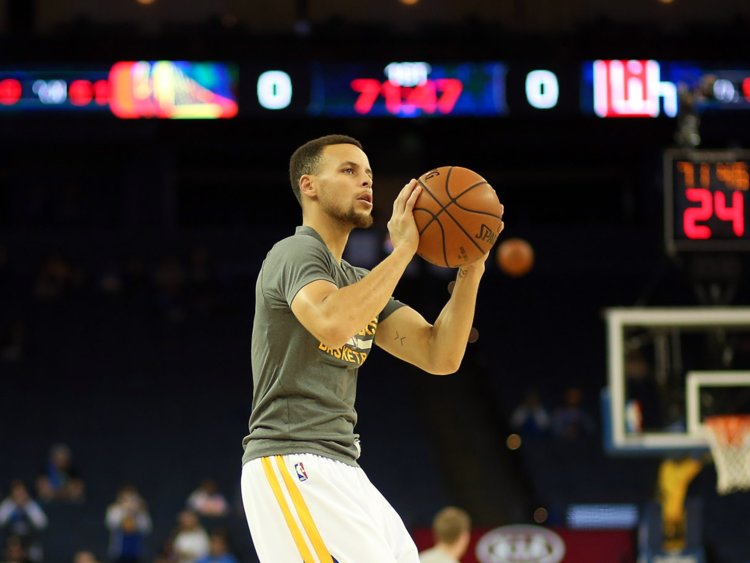Basketball: (410, 166, 509, 268)
